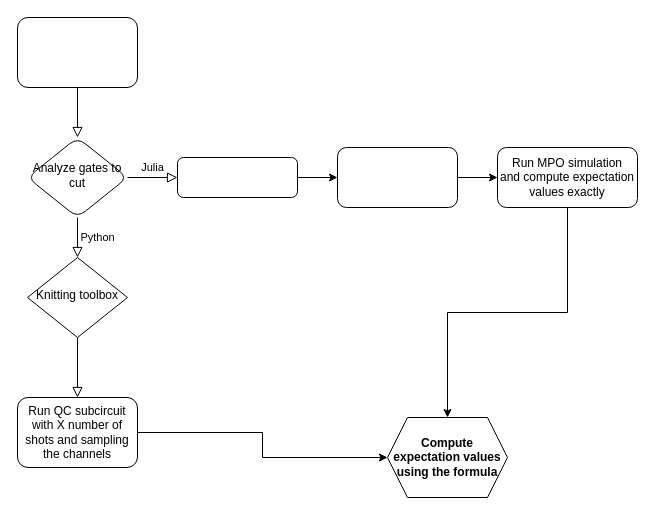
Image size: 655x515. Some labels were removed from this diagram. Here are the shapes that lost their labels. From the top down, the centre of each, then its label:
the point at 77,52: Start with 8 qubit Hamiltonian, 1st order Trotter in Qiskit
the point at 237,177: Build channels
the point at 397,177: Implement entire circuit with channels
